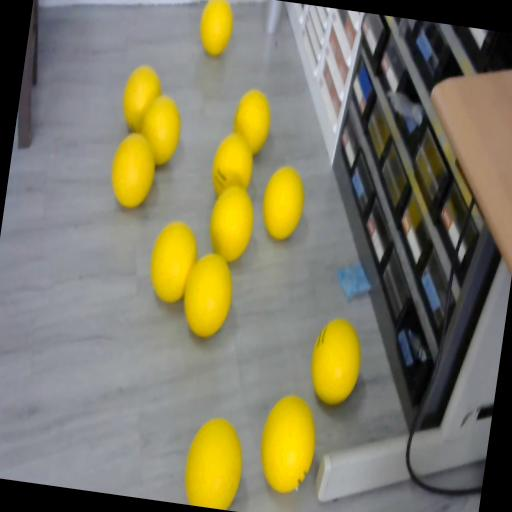FUEL: (254, 390, 322, 496), (180, 413, 249, 510), (177, 248, 239, 341), (306, 315, 366, 407), (144, 216, 203, 306), (204, 182, 260, 264), (107, 130, 160, 211), (257, 164, 308, 242), (118, 63, 164, 135), (230, 86, 276, 156), (196, 0, 237, 58)
